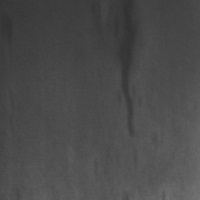inclusion: (112, 1, 144, 139), (1, 8, 18, 63), (88, 1, 106, 50)
